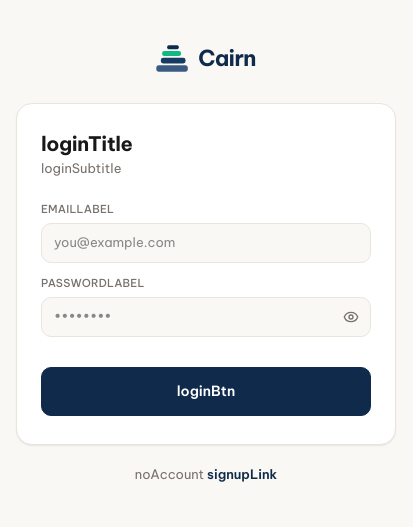
Scenario: LoginPage — navigation after successful sign-in › stays on the login page and shows an error when credentials are invalid
Type "user@example.com" into the field labelled "emailLabel".
click(206, 243); type("user@example.com")  # box x1=41 y1=223 x2=371 y2=262
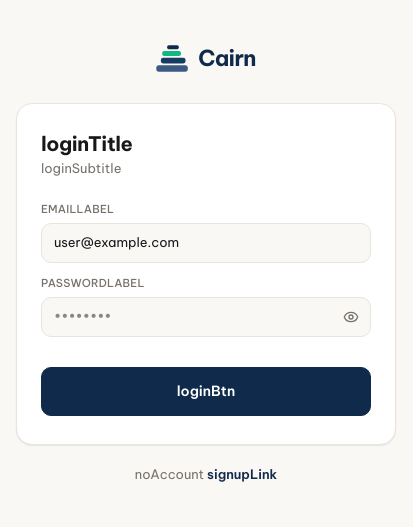
Type "secret123" into the password field labelled "passwordLabel".
click(206, 317); type("secret123")  # box x1=41 y1=297 x2=371 y2=336
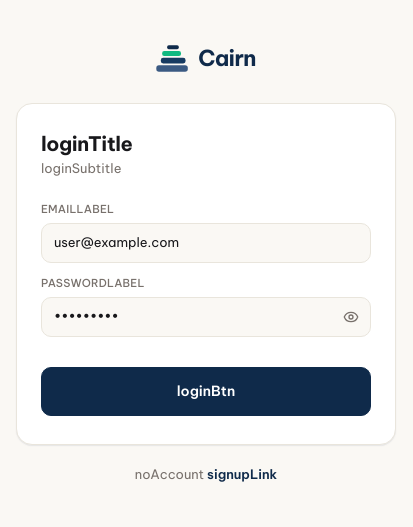
Click the button "loginBtn".
click(206, 391)  # box x1=41 y1=366 x2=371 y2=416
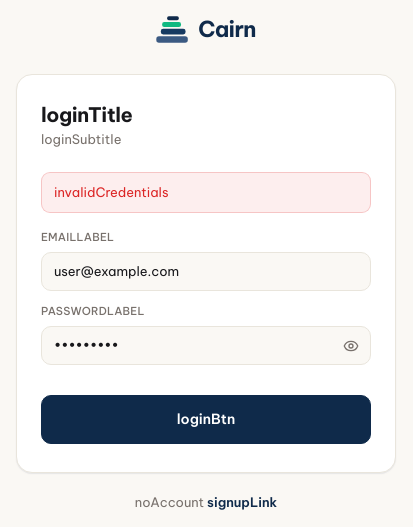
Check: the message "invalidCredentials" is shown, box x1=41 y1=172 x2=371 y2=213
